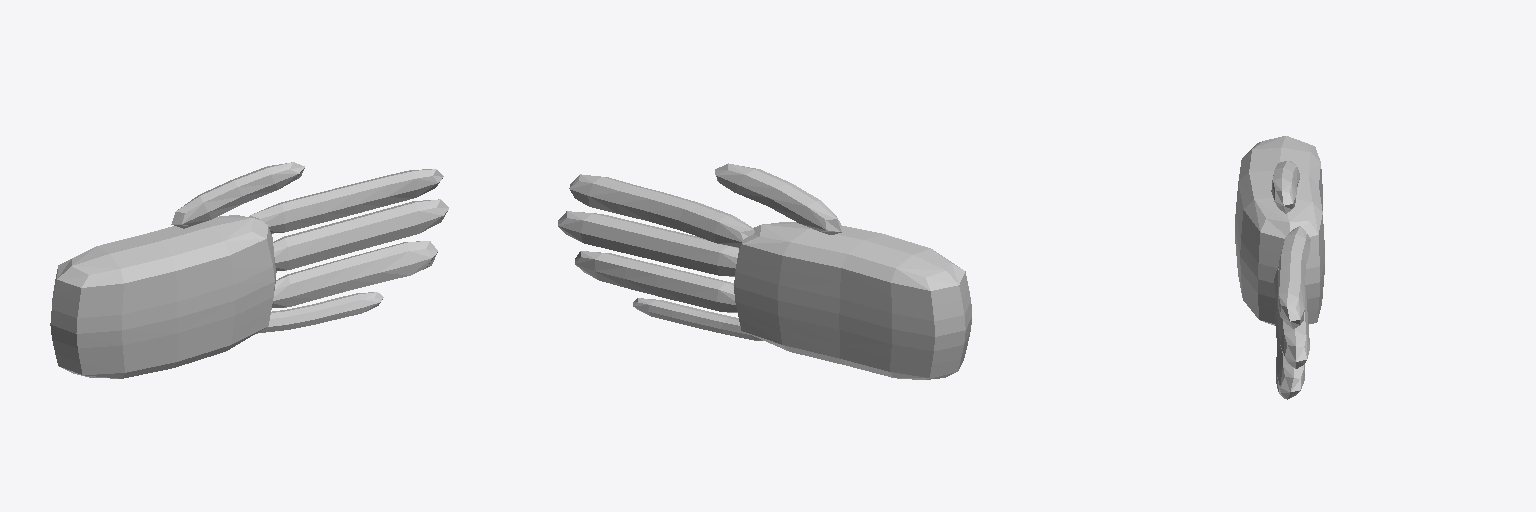
File: hand.obj
3 views of the same model, side by side, from view 1: azimuth 30°, elevation 25°; view 2: azimuth 150°, elevation 25°; view 3: azimuth 270°, elevation 25° (orthographic).
Parts seen in each view (by area): view 1: Cube.000; view 2: Cube.000; view 3: Cube.000.
Boxes of the visible parts, x1,y1,x2,y2 form: Cube.000: [50, 162, 448, 378]; Cube.000: [558, 163, 971, 379]; Cube.000: [1235, 136, 1324, 399].
Bounding box in the file's own units: 1.02 × 0.4063 × 0.1971.